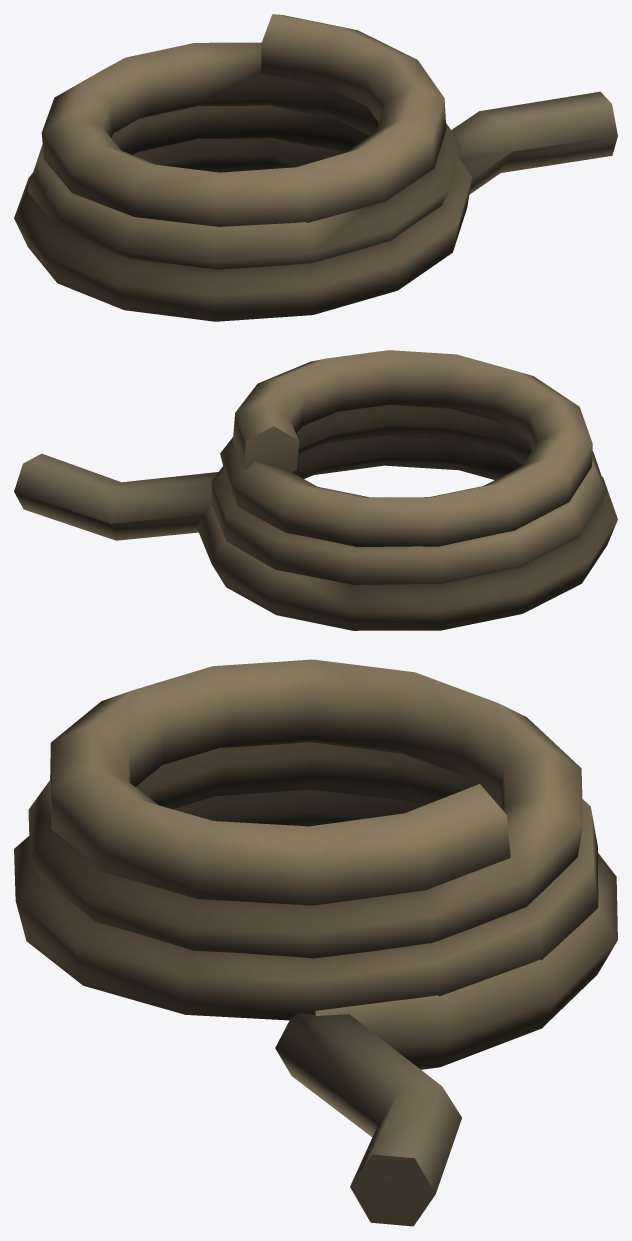
The model's file is HD_RopeCoil.glb.
3 renders of one model, top to bottom at view 1: azimuth 30°, elevation 25°; view 2: azimuth 150°, elevation 25°; view 3: azimuth 270°, elevation 25°, orthographic. The views are drawn at different scales.
Parts seen in each view (by area): view 1: HD_RopeCoil_1_SmoothPlastic; view 2: HD_RopeCoil_1_SmoothPlastic; view 3: HD_RopeCoil_1_SmoothPlastic.
Boxes of the visible parts, bbox=[...] form: HD_RopeCoil_1_SmoothPlastic: bbox=[14, 14, 617, 321]; HD_RopeCoil_1_SmoothPlastic: bbox=[14, 350, 617, 630]; HD_RopeCoil_1_SmoothPlastic: bbox=[14, 659, 617, 1226].
Size of the model in its own units: 3.36 by 0.9979 by 2.22.
